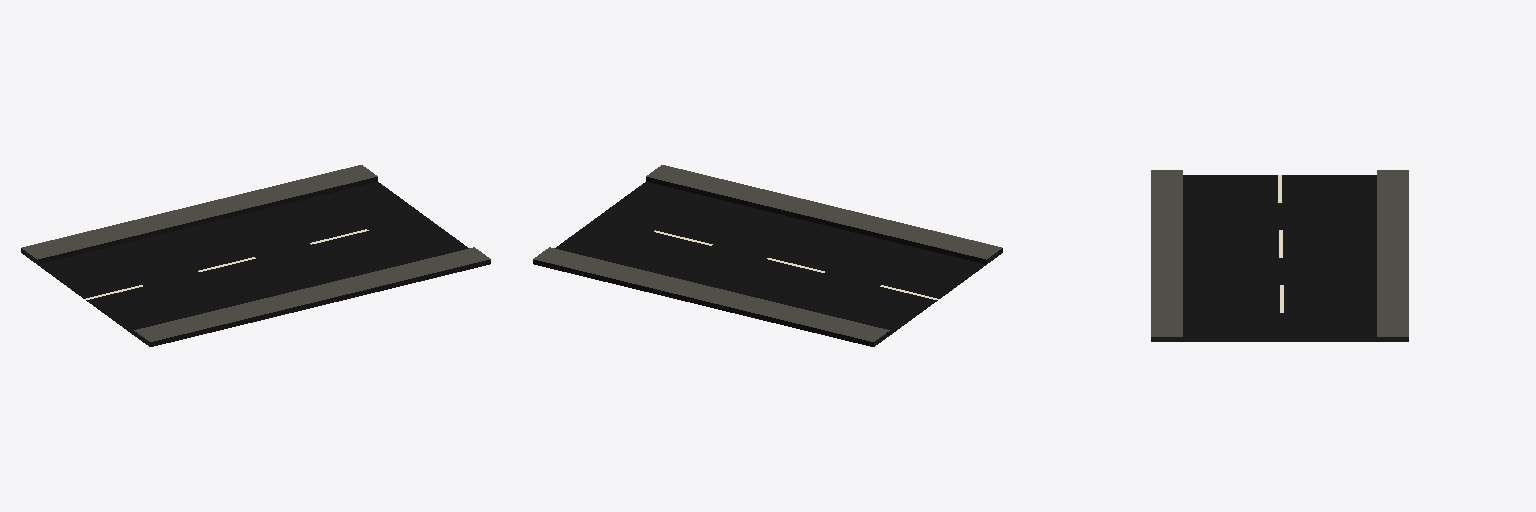
The model's file is Straightroad3.obj.
3 renders of one model, left to right at view 1: azimuth 30°, elevation 25°; view 2: azimuth 150°, elevation 25°; view 3: azimuth 270°, elevation 25°, orthographic.
Parts seen in each view (by area): view 1: Interseccion; view 2: Interseccion; view 3: Interseccion.
Part boxes in pixels (x1,y1,x2,y2): Interseccion: (21, 165, 490, 346); Interseccion: (533, 165, 1002, 346); Interseccion: (1151, 170, 1408, 341).
Bounding box in the file's own units: 9.3 × 0.1326 × 6.11.